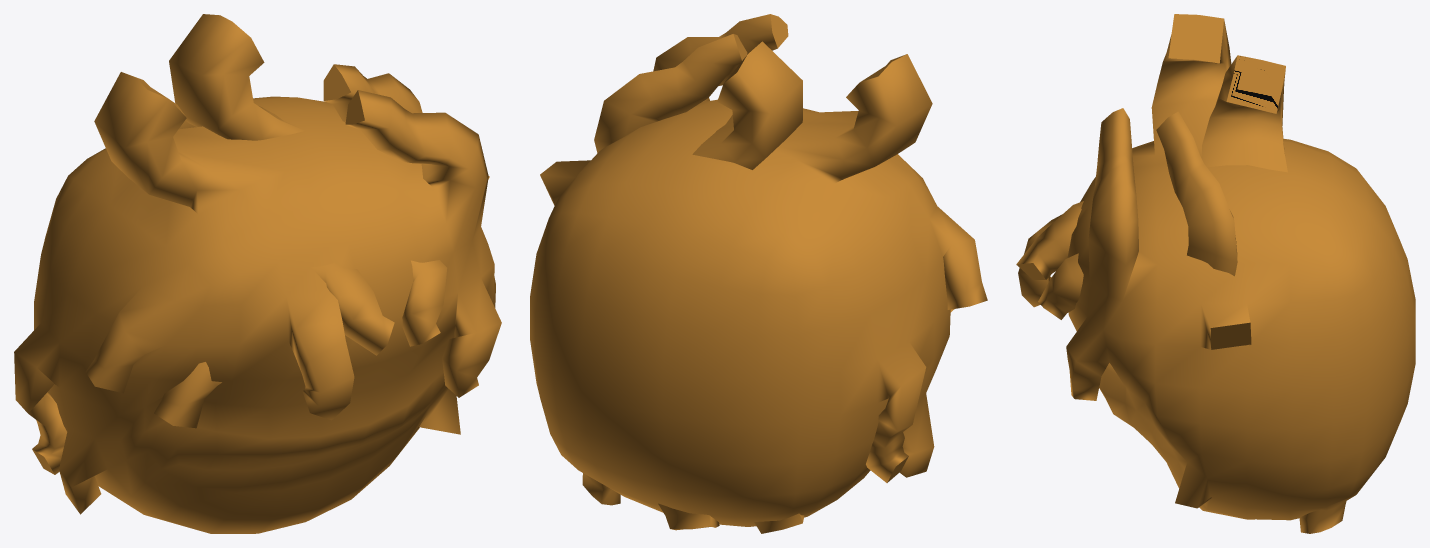
Rendered from Hair_2.fbx.
The picture shows the model from 3 angles, left to right: view 1: azimuth 30°, elevation 25°; view 2: azimuth 150°, elevation 25°; view 3: azimuth 270°, elevation 25°; orthographic projection. The views are drawn at different scales.
Parts seen in each view (by area): view 1: hair_02; view 2: hair_02; view 3: hair_02.
Part boxes in pixels (<box>): hair_02: <box>14,14,501,533</box>; hair_02: <box>530,14,987,533</box>; hair_02: <box>1016,14,1415,533</box>.
Size of the model in its own units: 46.54 by 51.98 by 43.57.
